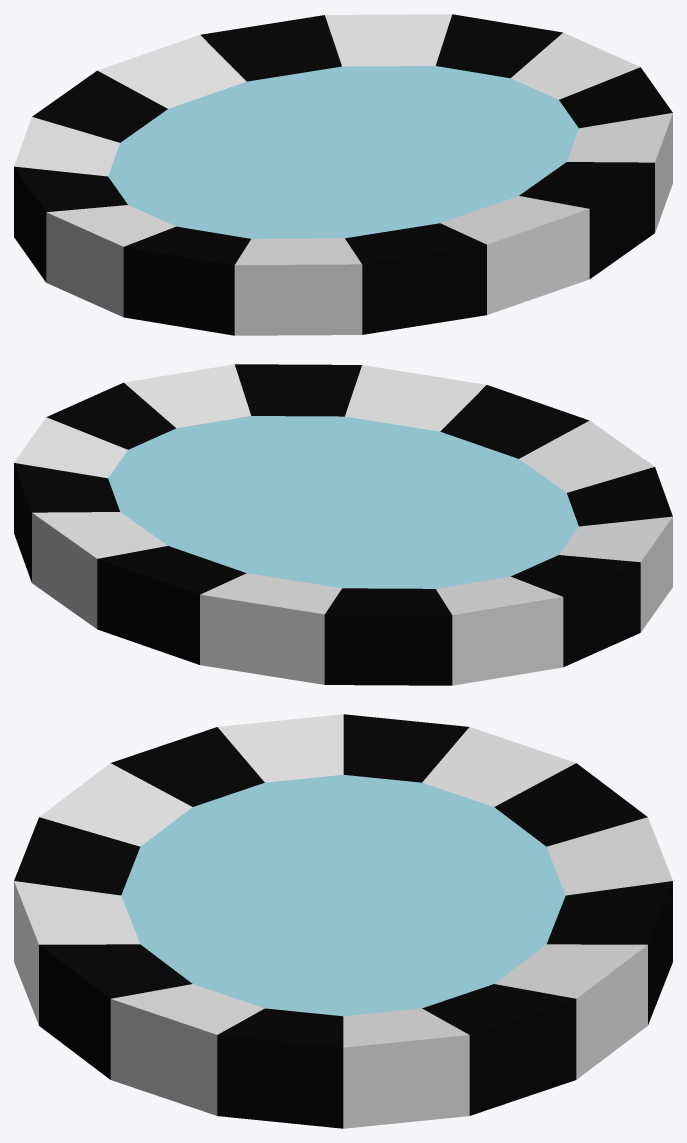
The model's file is teleporterItem.fbx.
3 views of the same model, one above another, from view 1: azimuth 30°, elevation 25°; view 2: azimuth 150°, elevation 25°; view 3: azimuth 270°, elevation 25° (orthographic). The views are drawn at different scales.
Visible parts, largest first — view 1: Cylinder; view 2: Cylinder; view 3: Cylinder.
Part boxes in pixels (x1=…): Cylinder: x1=14, y1=14, x2=672, y2=335; Cylinder: x1=14, y1=364, x2=672, y2=685; Cylinder: x1=14, y1=714, x2=672, y2=1128.
Size of the model in its own units: 140 by 15.85 by 117.
